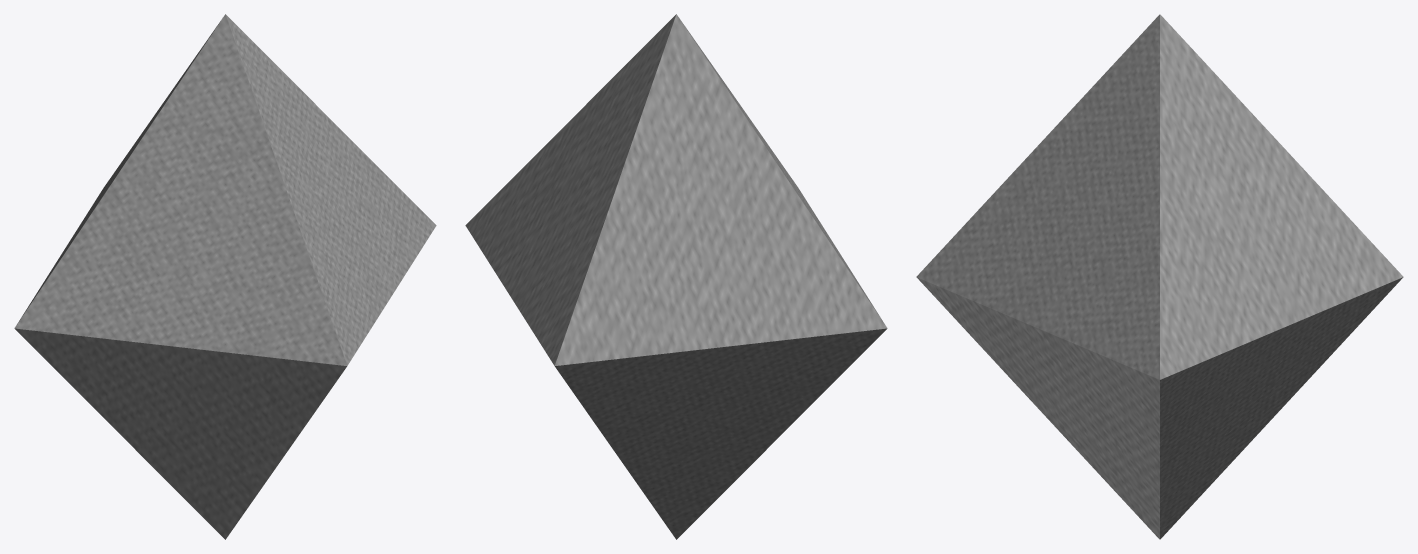
Rendered from elemental-focus.glb.
3 renders of one model, left to right at view 1: azimuth 30°, elevation 25°; view 2: azimuth 150°, elevation 25°; view 3: azimuth 270°, elevation 25°, orthographic.
Parts seen in each view (by area): view 1: elemental-focus; view 2: elemental-focus; view 3: elemental-focus.
Boxes of the visible parts, bbox=[...] form: elemental-focus: bbox=[14, 14, 436, 539]; elemental-focus: bbox=[465, 14, 887, 539]; elemental-focus: bbox=[916, 14, 1403, 539].
Bounding box in the file's own units: 0.84 × 1 × 0.84.
Materials: 1 (1 with a texture image).
